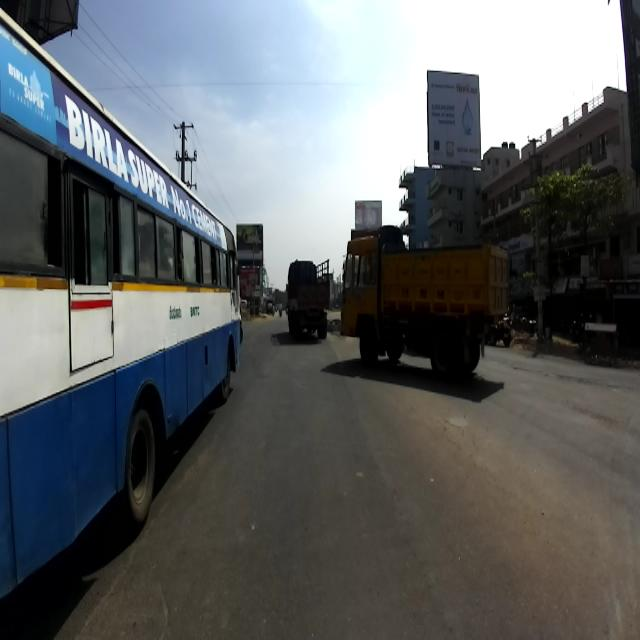bus ahead at: (0, 2, 243, 613)
truck ahead at: (336, 228, 510, 388)
